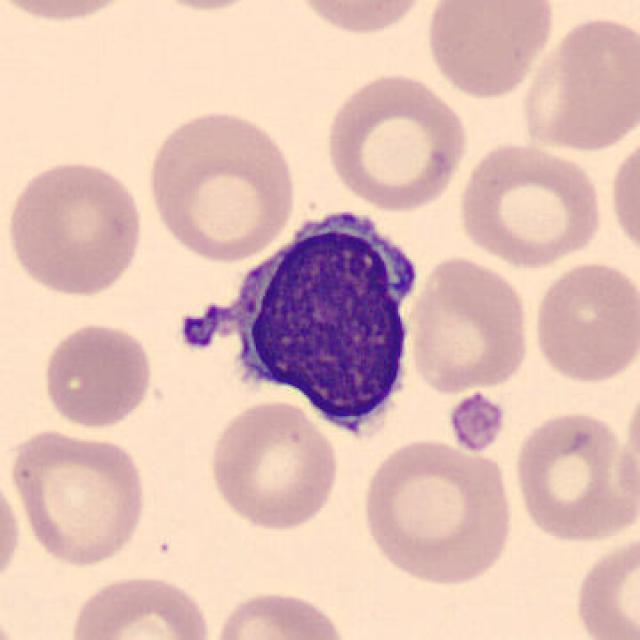Lymphocyte: (167, 196, 427, 444)
Platelets: (445, 392, 507, 452)
RBC: (142, 106, 299, 264), (359, 439, 517, 585), (322, 69, 471, 212), (6, 155, 148, 300), (7, 427, 149, 570), (455, 139, 605, 270), (404, 252, 534, 399), (207, 397, 342, 534), (511, 408, 637, 549), (518, 11, 639, 155), (528, 257, 636, 388), (38, 319, 157, 430), (423, 0, 554, 100), (66, 571, 213, 640), (569, 530, 640, 640), (210, 587, 352, 640), (285, 0, 436, 39), (606, 131, 638, 274), (0, 0, 138, 26)
